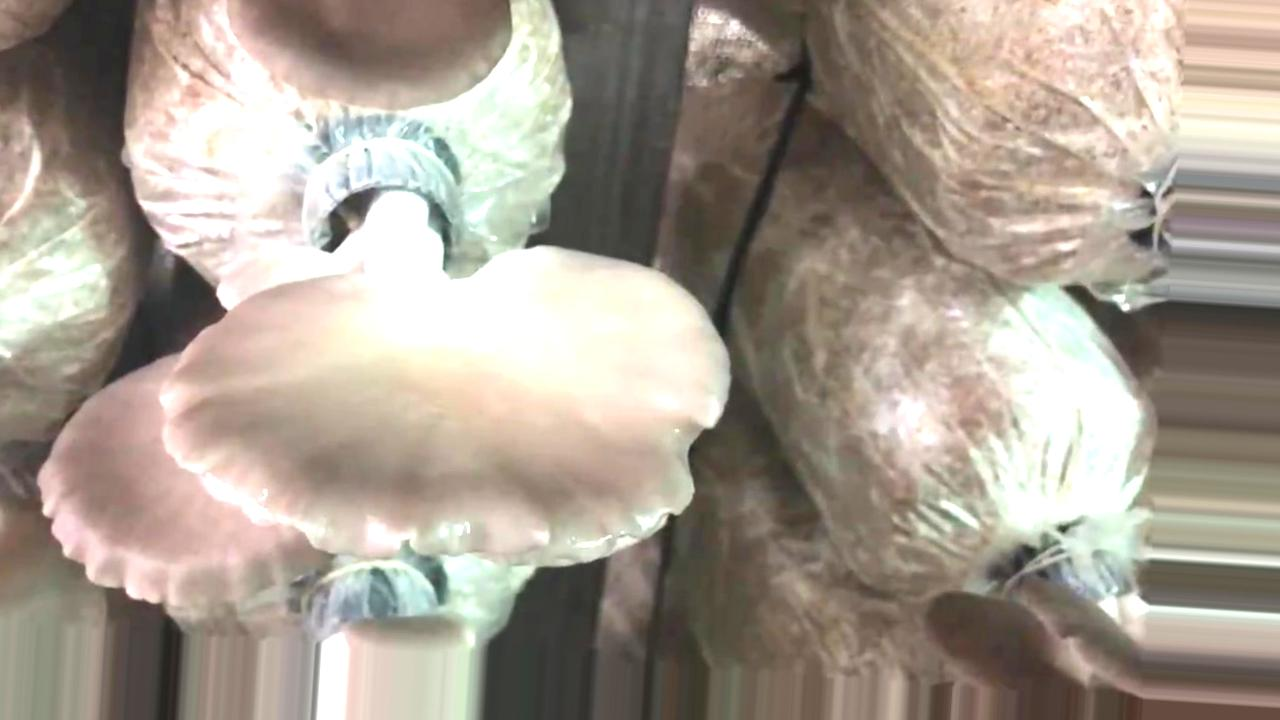nam: (159, 139, 736, 575), (45, 349, 327, 605), (935, 537, 1143, 705), (224, 1, 516, 110)
